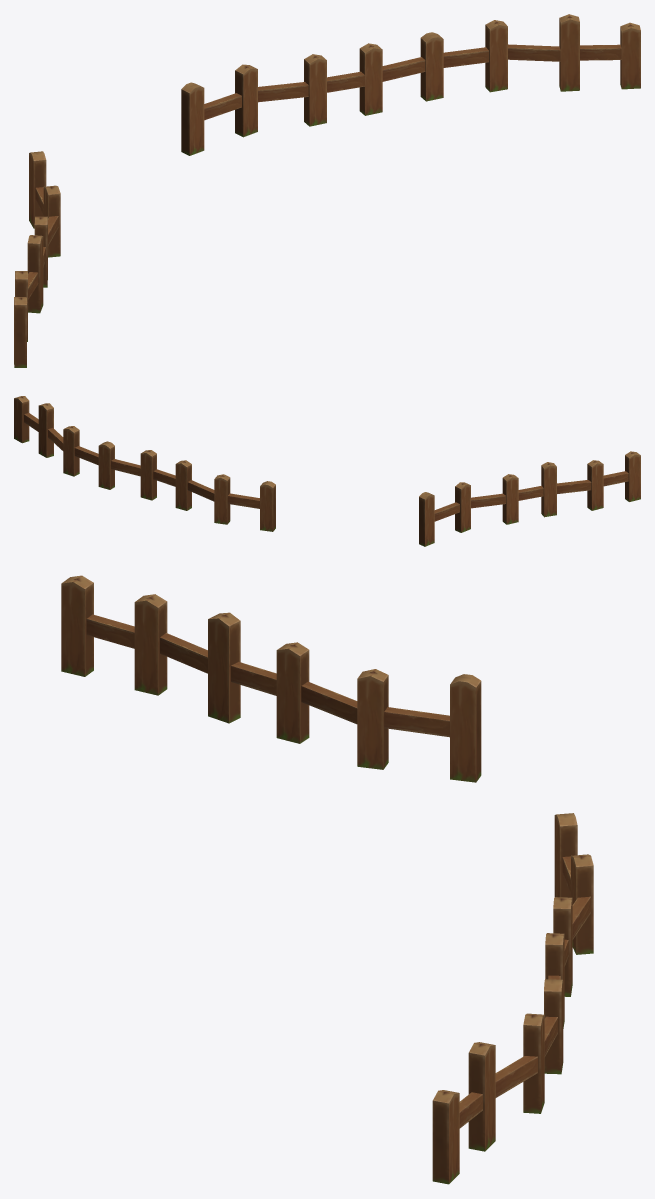
File: scene_lawennushandao_langan01.FBX
3 views of the same model, one above another, from view 1: azimuth 30°, elevation 25°; view 2: azimuth 150°, elevation 25°; view 3: azimuth 270°, elevation 25° (orthographic). The views are drawn at different scales.
Visible parts, largest first — view 1: scene_lawennushandao_langan01; view 2: scene_lawennushandao_langan01; view 3: scene_lawennushandao_langan01.
Part boxes in pixels (<box>): scene_lawennushandao_langan01: <box>14,14,640,367</box>; scene_lawennushandao_langan01: <box>14,396,640,546</box>; scene_lawennushandao_langan01: <box>61,575,593,1184</box>.
Bounding box in the file's own units: 1335 × 122 × 578.
